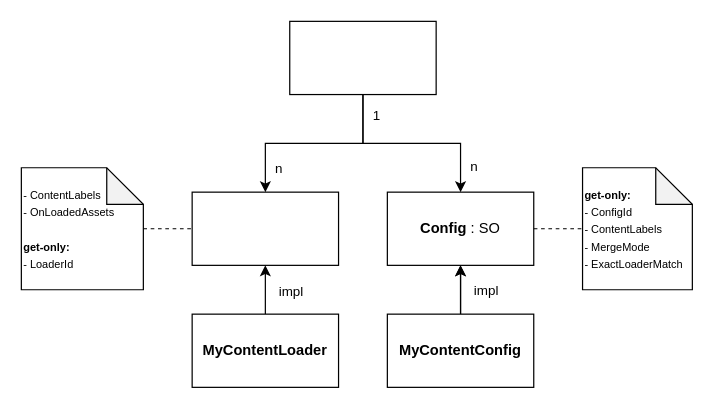
Some shapes in this 714 by 409 pixel diagram are drawn without their labels. Each missing label, with the centre of its shape:
"ConfigLoader" goes at (362,57).
"ContentLoader<T> : SO, IContentLoader" goes at (265,228).
